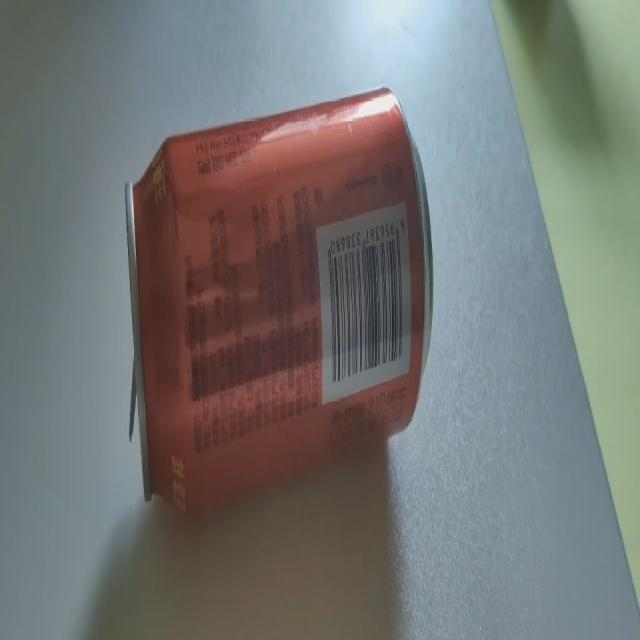can: (124, 84, 434, 509)
